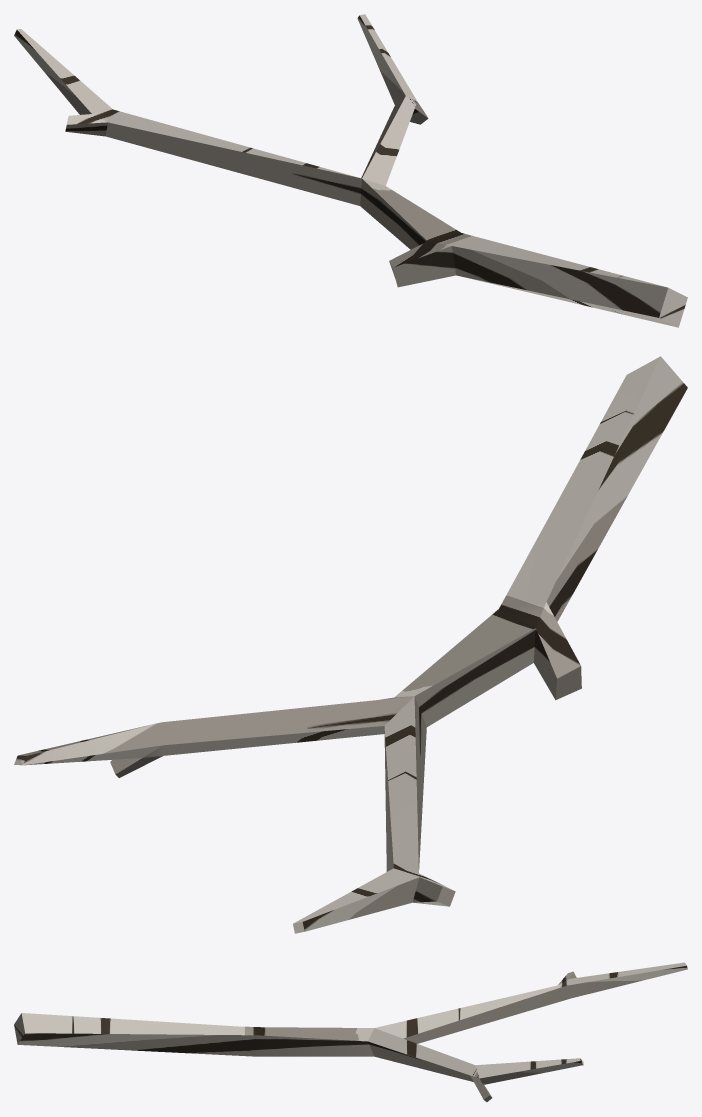
Rendered from synty-tree-twig-01.gltf.
3 views of the same model, one above another, from view 1: azimuth 30°, elevation 25°; view 2: azimuth 150°, elevation 25°; view 3: azimuth 270°, elevation 25° (orthographic). The views are drawn at different scales.
Parts seen in each view (by area): view 1: SM_Tree_Twig_01; view 2: SM_Tree_Twig_01; view 3: SM_Tree_Twig_01.
Part boxes in pixels (box(x1,y1,x2,y2)): SM_Tree_Twig_01: box(14, 14, 687, 327); SM_Tree_Twig_01: box(14, 356, 687, 933); SM_Tree_Twig_01: box(14, 962, 687, 1101).
Size of the model in its own units: 0.3484 by 0.1045 by 0.9063.
1 material, 1 textured.
